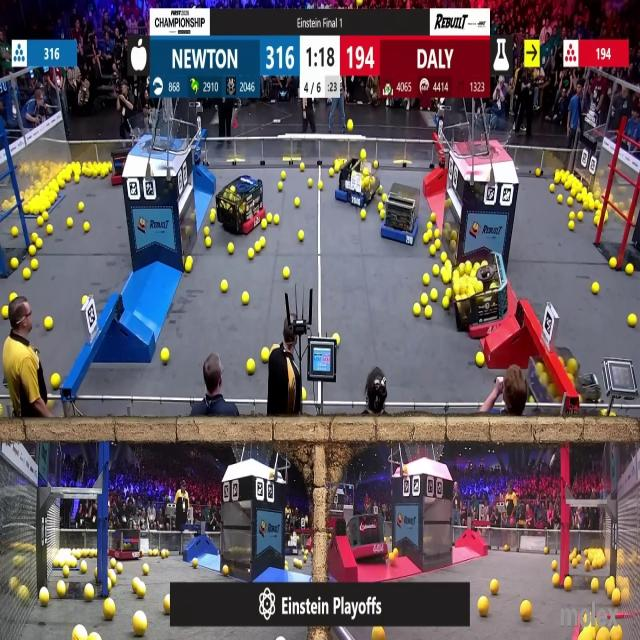ball_ground: (133, 612, 148, 636), (104, 598, 116, 620), (479, 596, 490, 616), (86, 584, 96, 601), (247, 358, 255, 374), (491, 580, 499, 595), (564, 575, 572, 590), (162, 348, 170, 362), (477, 352, 485, 366), (44, 317, 52, 329), (593, 282, 600, 294), (263, 349, 270, 361), (609, 256, 616, 268), (10, 257, 18, 267), (426, 305, 432, 318), (414, 305, 421, 316), (283, 268, 290, 279), (243, 291, 249, 303), (227, 242, 233, 254), (627, 266, 634, 276), (32, 260, 38, 271), (143, 564, 149, 574), (11, 228, 17, 238), (64, 566, 70, 576), (222, 565, 228, 575), (308, 178, 314, 188), (78, 203, 84, 212), (567, 198, 573, 207), (360, 210, 365, 220), (68, 217, 73, 227), (553, 560, 558, 570), (298, 232, 303, 242), (568, 222, 574, 230), (46, 224, 52, 232), (83, 222, 89, 230), (430, 247, 436, 255), (294, 199, 299, 208), (319, 181, 324, 189), (535, 169, 540, 177), (276, 215, 280, 223), (329, 169, 333, 176), (282, 171, 285, 180)
goal: (455, 114, 515, 158), (125, 119, 187, 150)
robot_blue: (331, 154, 383, 211), (380, 179, 422, 248)
robot_red: (457, 268, 509, 338), (217, 175, 266, 235), (346, 511, 390, 564), (107, 529, 140, 560)
